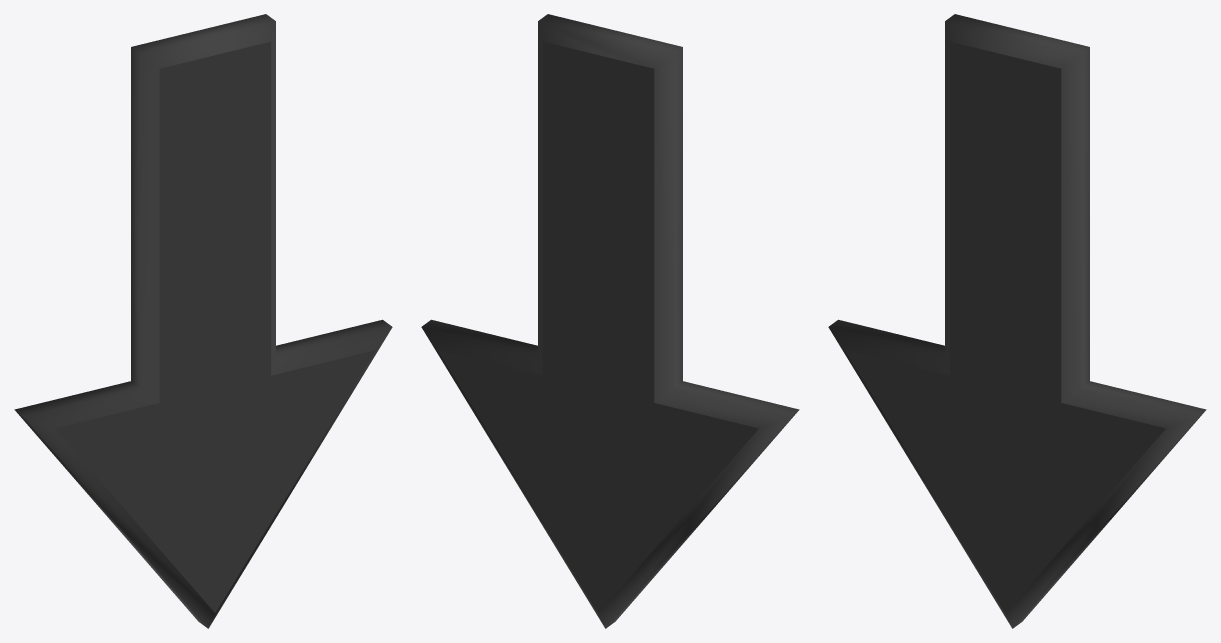
Rendered from f0ff9efd-cce4-477a-a28e-17c74d73ae09.glb.
The picture shows the model from 3 angles, left to right: view 1: azimuth 30°, elevation 25°; view 2: azimuth 150°, elevation 25°; view 3: azimuth 330°, elevation 25°; orthographic projection.
Parts seen in each view (by area): view 1: IndicatorArrowDownBlack; view 2: IndicatorArrowDownBlack; view 3: IndicatorArrowDownBlack.
Boxes of the visible parts, x1,y1,x2,y2 form: IndicatorArrowDownBlack: (14,14,392,628); IndicatorArrowDownBlack: (421,14,799,628); IndicatorArrowDownBlack: (828,14,1206,628).
Bounding box in the file's own units: 0.45 × 0.69 × 0.05.
1 material, 1 textured.
